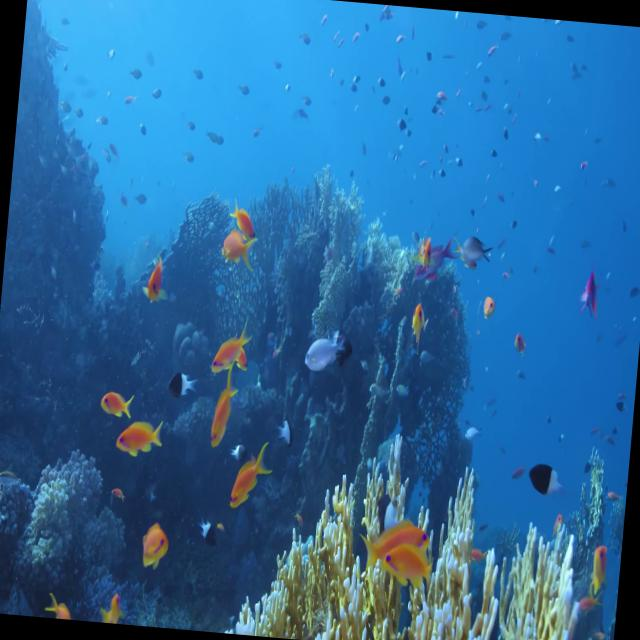fish: (230, 434, 274, 506), (378, 540, 444, 586), (298, 324, 350, 375), (112, 410, 166, 459), (204, 374, 237, 449), (210, 321, 250, 375), (133, 520, 171, 571), (220, 220, 258, 270), (95, 388, 132, 430)
